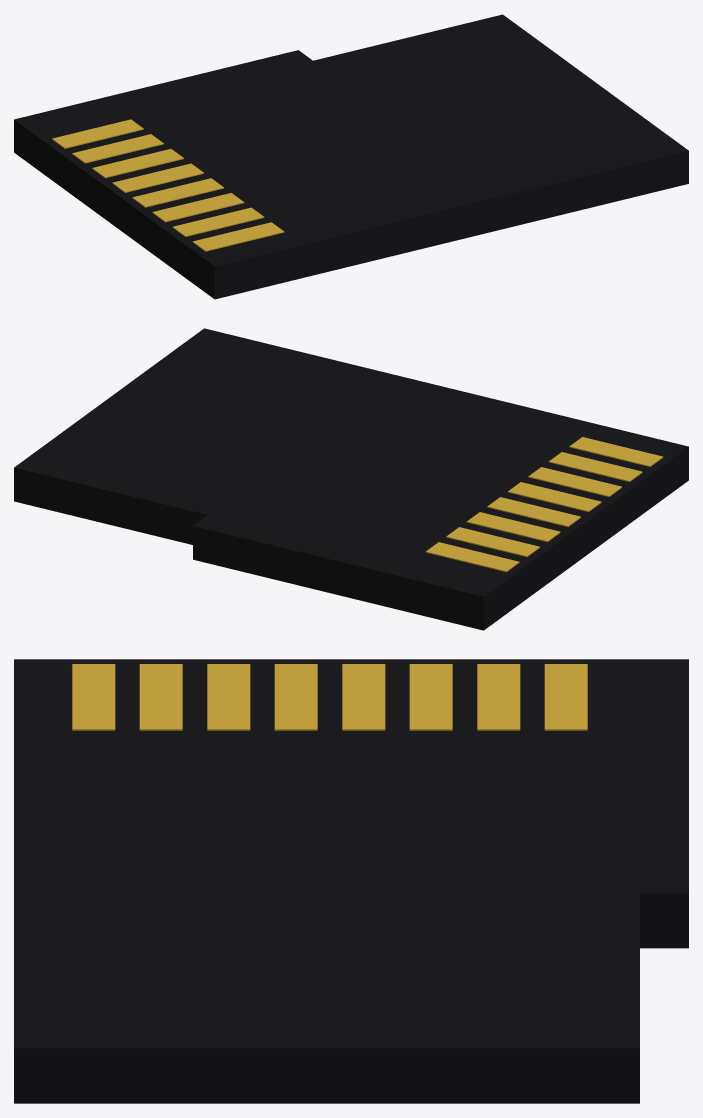
Rendered from cartao_microsd.glb.
3 renders of one model, top to bottom at view 1: azimuth 30°, elevation 25°; view 2: azimuth 150°, elevation 25°; view 3: azimuth 270°, elevation 25°, orthographic. The views are drawn at different scales.
Parts seen in each view (by area): view 1: cartao, nc_contatos; view 2: cartao, nc_contatos; view 3: cartao, nc_contatos.
Boxes of the visible parts, x1,y1,x2,y2 form: cartao: (14, 14, 688, 299); nc_contatos: (52, 119, 284, 251); cartao: (14, 328, 688, 630); nc_contatos: (425, 437, 663, 572); cartao: (14, 659, 688, 1103); nc_contatos: (72, 664, 587, 730).
Size of the model in its own units: 15 by 1.03 by 11.
